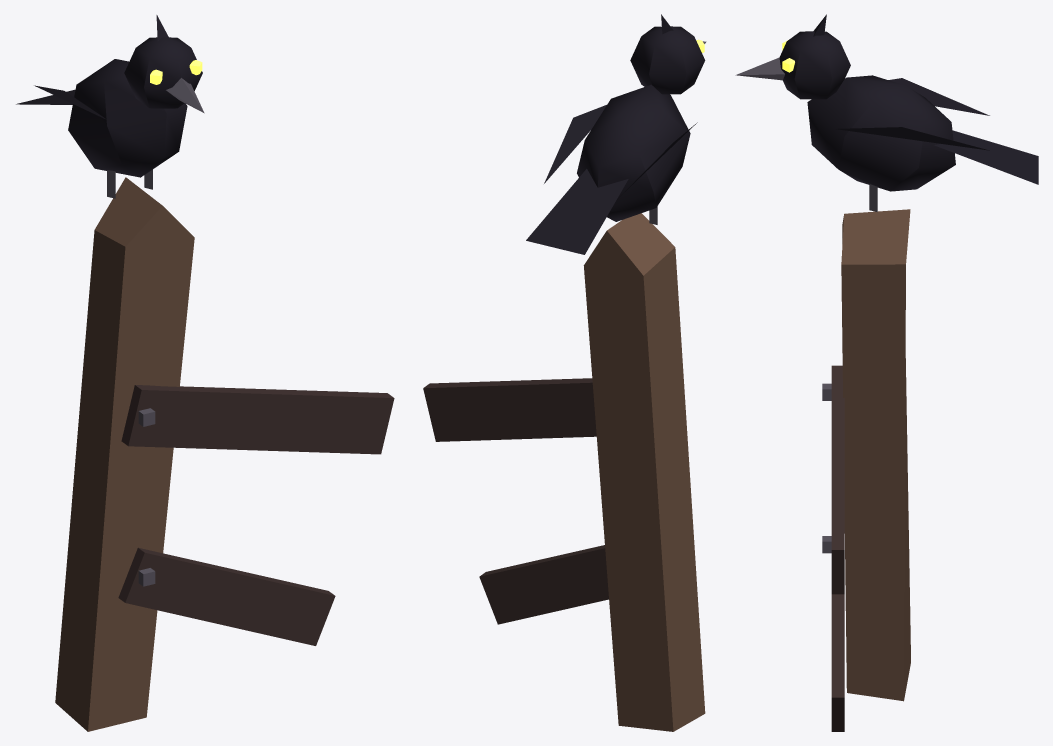
File: crow_fence_post.glb
3 views of the same model, side by side, from view 1: azimuth 30°, elevation 25°; view 2: azimuth 150°, elevation 25°; view 3: azimuth 270°, elevation 25° (orthographic). The views are drawn at different scales.
Visible parts, largest first — view 1: crow_fence_post; view 2: crow_fence_post; view 3: crow_fence_post.
Boxes of the visible parts, x1,y1,x2,y2 form: crow_fence_post: (16, 15, 394, 731); crow_fence_post: (423, 14, 706, 731); crow_fence_post: (735, 14, 1038, 731).
Bounding box in the file's own units: 0.6247 × 1.44 × 0.5779.
